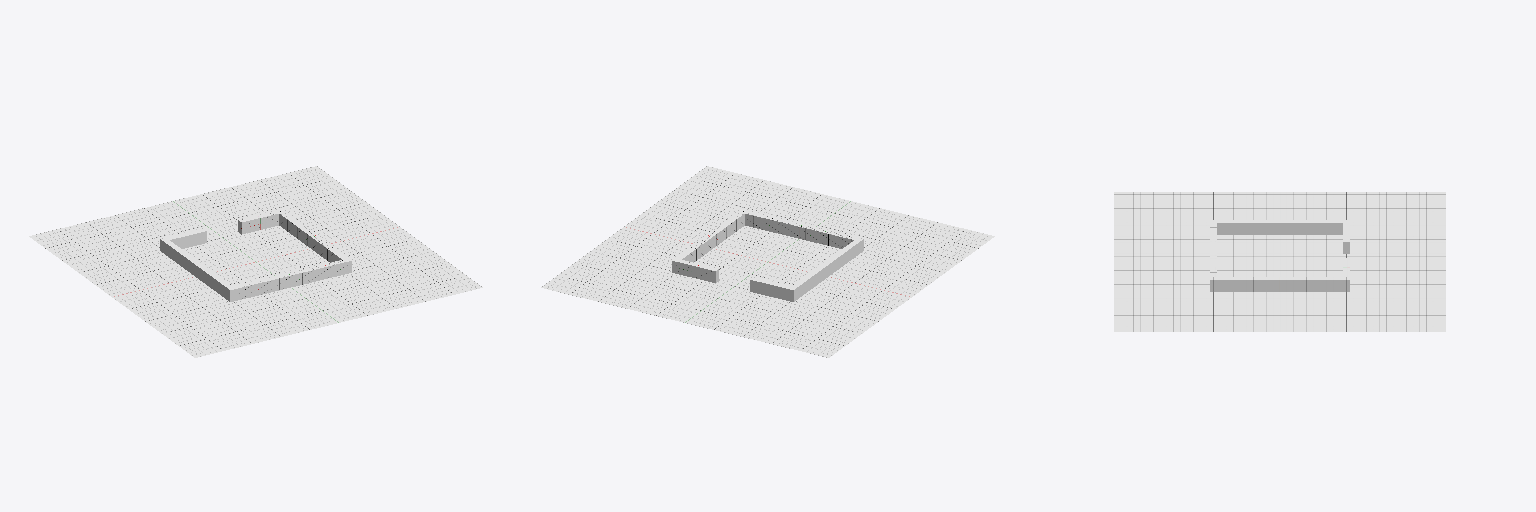
3 renders of one model, left to right at view 1: azimuth 30°, elevation 25°; view 2: azimuth 150°, elevation 25°; view 3: azimuth 270°, elevation 25°, orthographic.
Parts seen in each view (by area): view 1: object40, object24, object32, object16, object0; view 2: object40, object24, object32, object16, object0, object8; view 3: object40, object16, object32.
Boxes of the visible parts, <box> form: object40: <box>29,166,482,357</box>; object24: <box>233,260,345,300</box>; object32: <box>160,238,235,301</box>; object16: <box>276,210,351,273</box>; object0: <box>238,211,278,234</box>; object40: <box>541,166,994,357</box>; object24: <box>745,211,856,248</box>; object32: <box>788,238,863,301</box>; object16: <box>672,210,747,273</box>; object0: <box>678,260,718,282</box>; object8: <box>750,277,790,300</box>; object40: <box>1114,192,1445,331</box>; object16: <box>1210,277,1349,291</box>; object32: <box>1210,220,1349,234</box>.
Bounding box in the file's own units: 50 × 2 × 50.
6 materials, 4 textured.